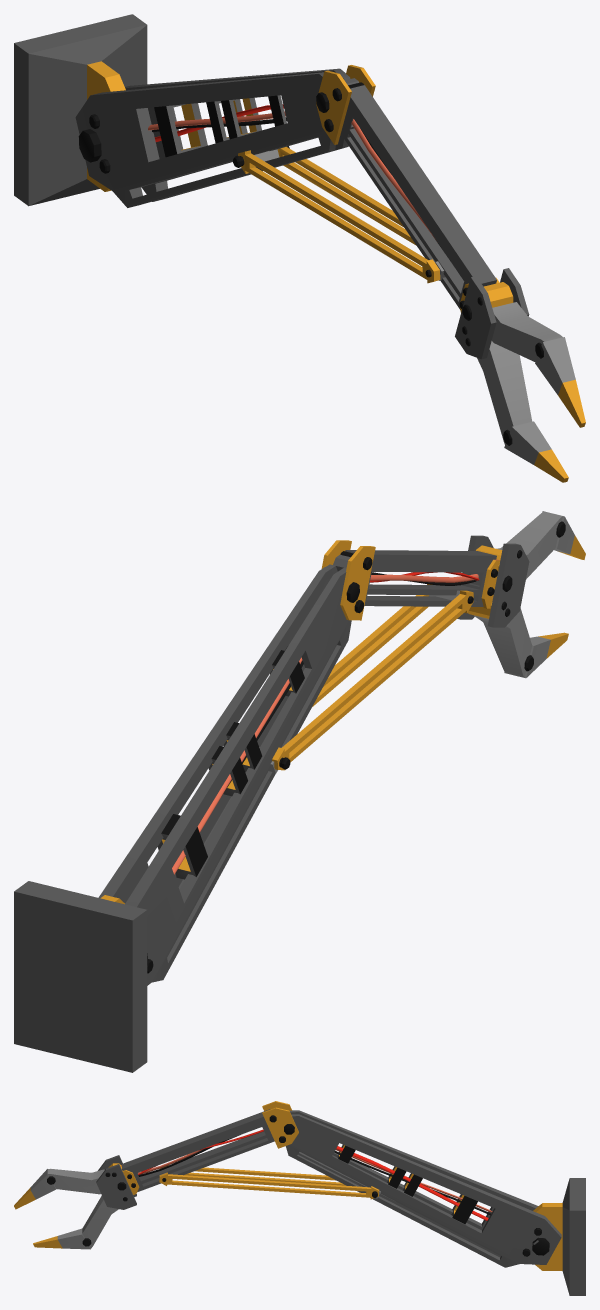
Rendered from robotArm1.fbx.
The picture shows the model from 3 angles, top to bottom: view 1: azimuth 30°, elevation 25°; view 2: azimuth 150°, elevation 25°; view 3: azimuth 270°, elevation 25°; orthographic projection. The views are drawn at different scales.
Parts seen in each view (by area): view 1: RobotArm; view 2: RobotArm; view 3: RobotArm.
Boxes of the visible parts, x1,y1,x2,y2 form: RobotArm: (14, 14, 585, 482); RobotArm: (14, 511, 585, 1072); RobotArm: (14, 1101, 585, 1295).
Bounding box in the file's own units: 19.43 × 145 × 48.86.
